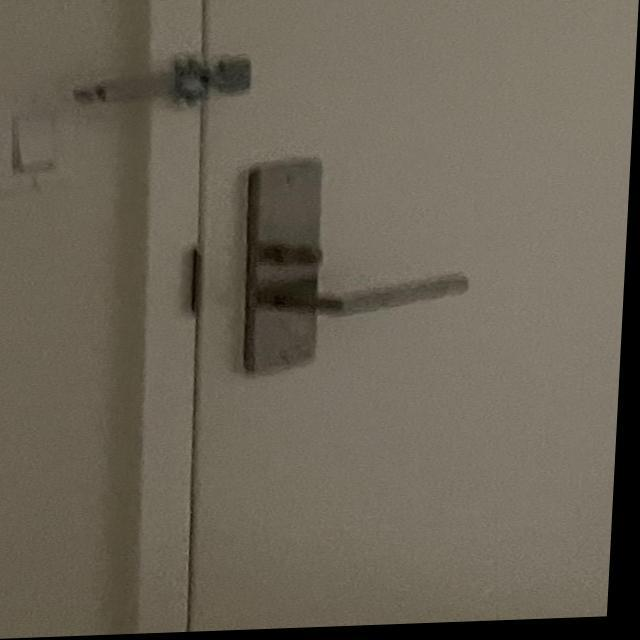door_handle: (247, 266, 489, 328)
